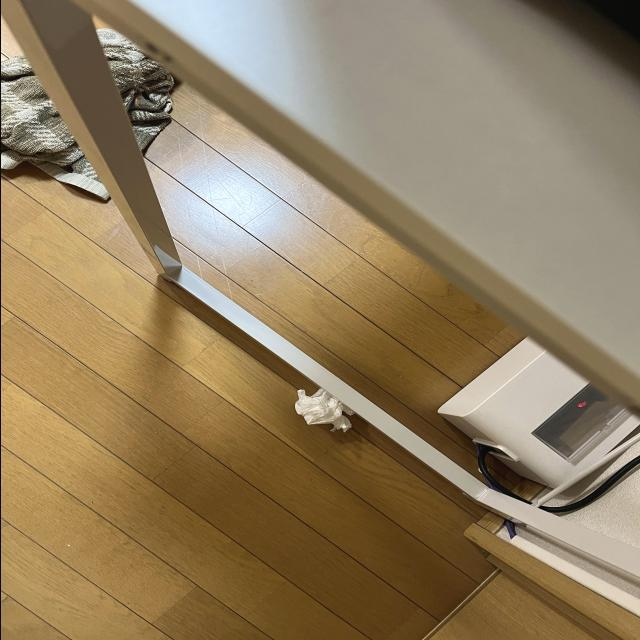Paper: (281, 376, 362, 458)
